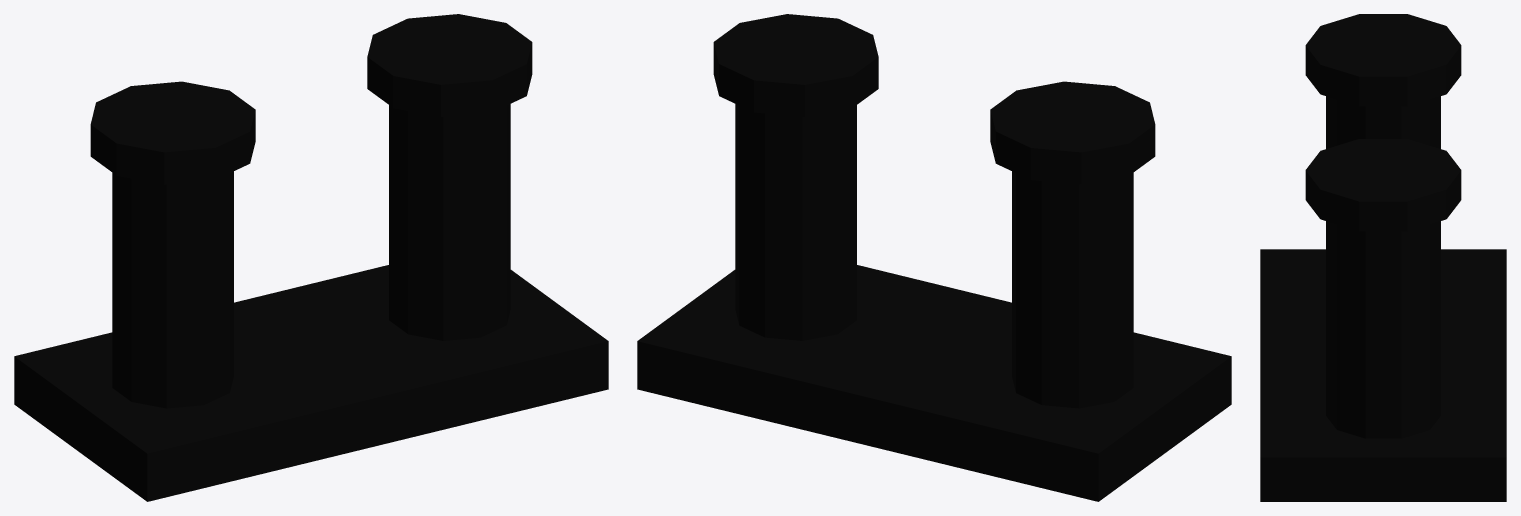
The model's file is bitva.glb.
3 views of the same model, side by side, from view 1: azimuth 30°, elevation 25°; view 2: azimuth 150°, elevation 25°; view 3: azimuth 270°, elevation 25° (orthographic). The views are drawn at different scales.
Parts seen in each view (by area): view 1: bitva; view 2: bitva; view 3: bitva.
Boxes of the visible parts, left/top/right/bottom form: bitva: left=14, top=14, right=608, bottom=501; bitva: left=637, top=14, right=1231, bottom=501; bitva: left=1260, top=14, right=1506, bottom=501.
Bounding box in the file's own units: 0.6 × 0.39 × 0.3.
1 material, 1 textured.
